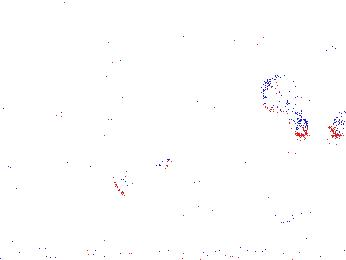flame jellyfish: (270, 172, 346, 227), (257, 69, 310, 135), (111, 151, 174, 200)
